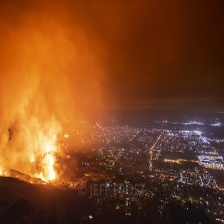fire: (23, 134, 62, 182)
smoke: (3, 7, 123, 164)
